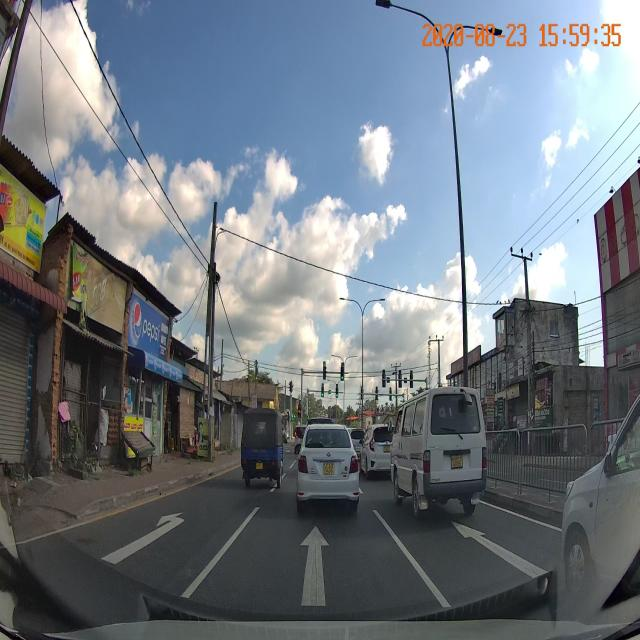forward: (160, 521, 454, 615)
